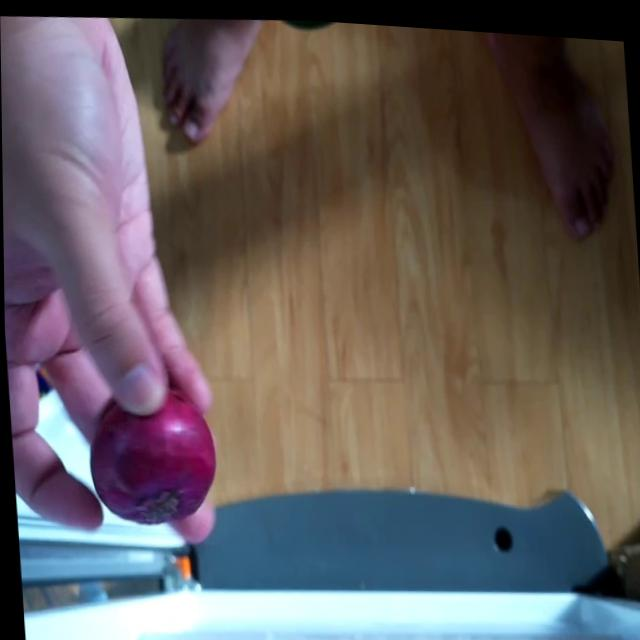onion: (80, 374, 220, 532)
